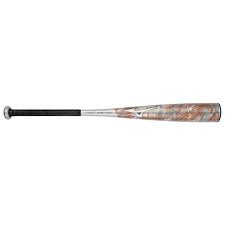baseball bat: (4, 102, 222, 121)
